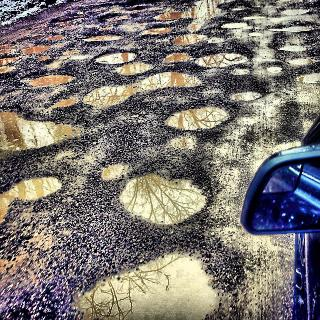pothole: (1, 3, 309, 320)
